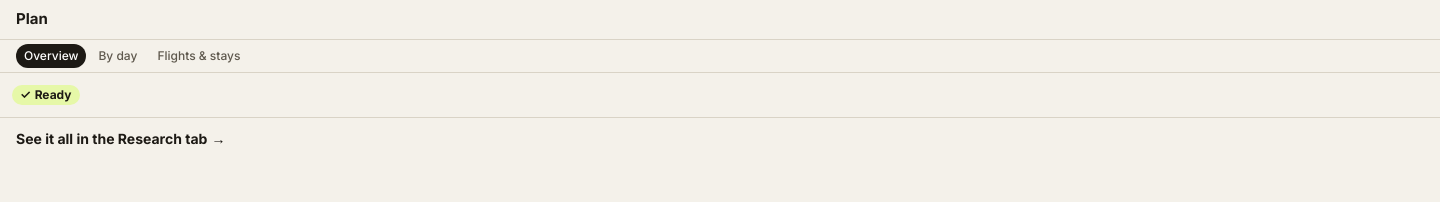
Test: ResearchPlanPanel › never renders a place id, flight id, or the map without coordinates
Click the button "By day" at (118, 56), box [90,44,145,68]
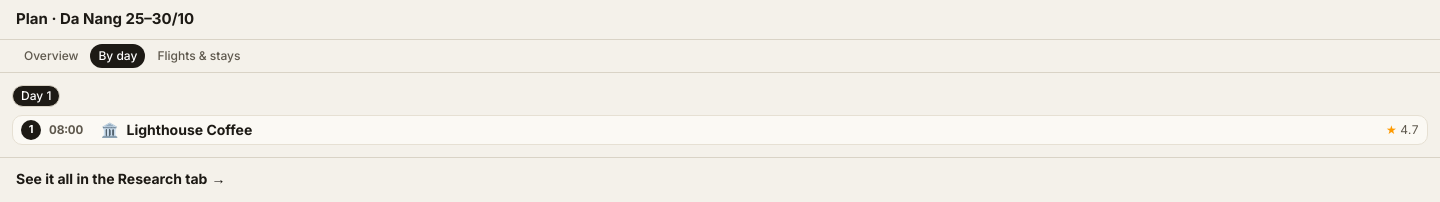
Result: the text "Lighthouse Coffee" is shown at [126,120,252,138]
